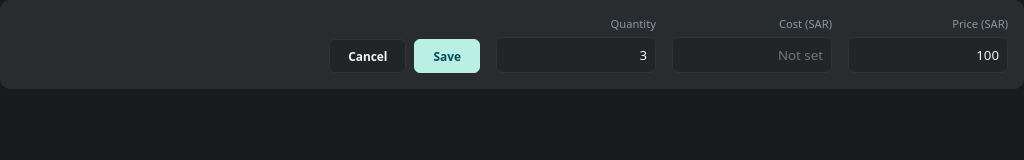
Test: ProductEditForm › shows server error and stays open
Replace the text in the number field labelled "Price (SAR)" with "80" at (928, 55), box [848, 37, 1008, 73]
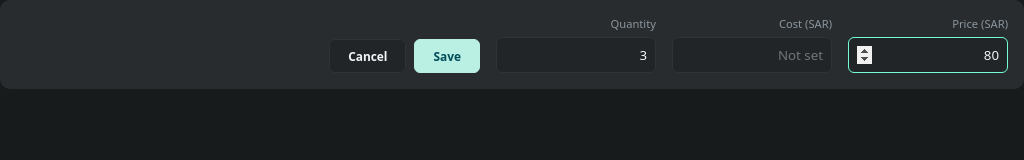
Click the button "Save" at (447, 56), box [414, 39, 480, 73]
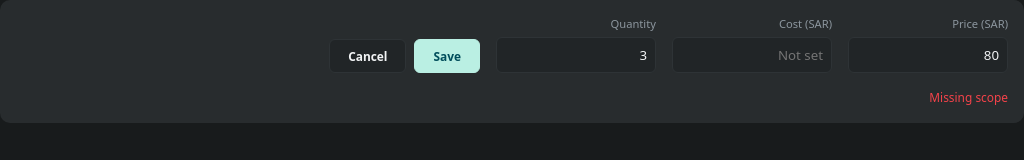
Now the message reads "Missing scope", box [929, 89, 1008, 105]
